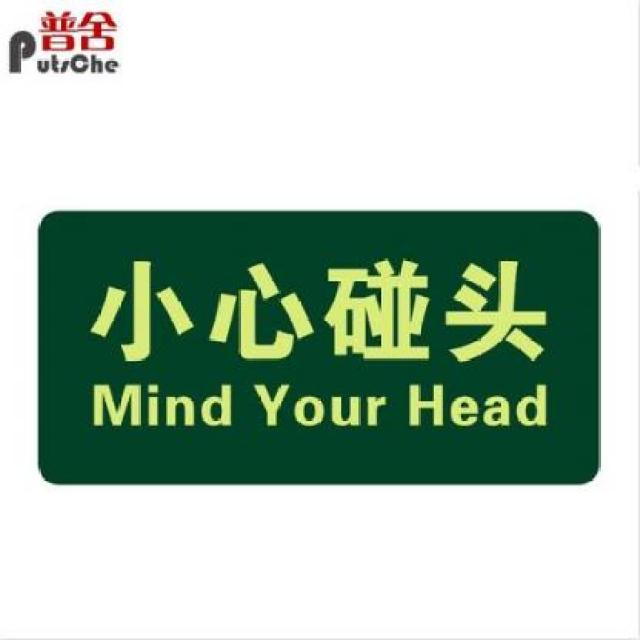exit_sign: (31, 192, 612, 490)
